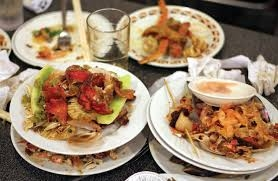glass: (142, 95, 278, 176), (8, 126, 156, 181), (84, 4, 137, 75), (183, 74, 264, 108)
kitchen_waste: (140, 1, 187, 65), (214, 111, 278, 153), (79, 83, 115, 118), (29, 63, 51, 116), (63, 64, 100, 88), (172, 112, 207, 137), (45, 96, 71, 122)
metal: (53, 1, 78, 55)
paper: (184, 49, 249, 84), (246, 53, 277, 97)
